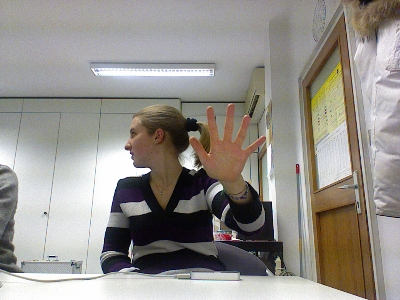布: (187, 102, 267, 183)
